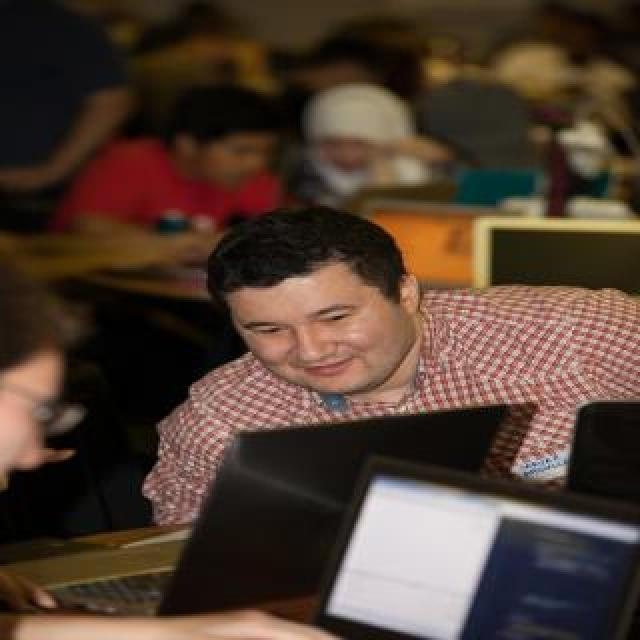laptop_computer: (34, 405, 570, 615), (196, 432, 640, 640), (422, 188, 640, 326), (572, 372, 640, 536)
